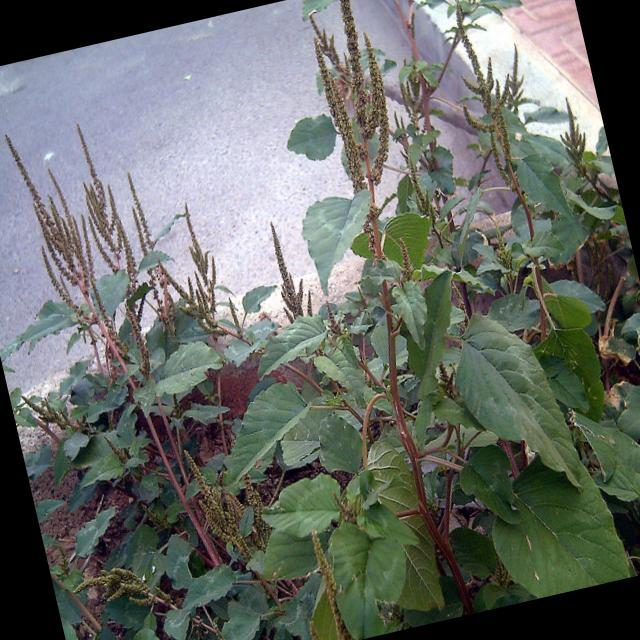Medicinal-Arive Dantu: (262, 324, 630, 640), (0, 86, 260, 480), (240, 0, 461, 323), (424, 0, 632, 283)
